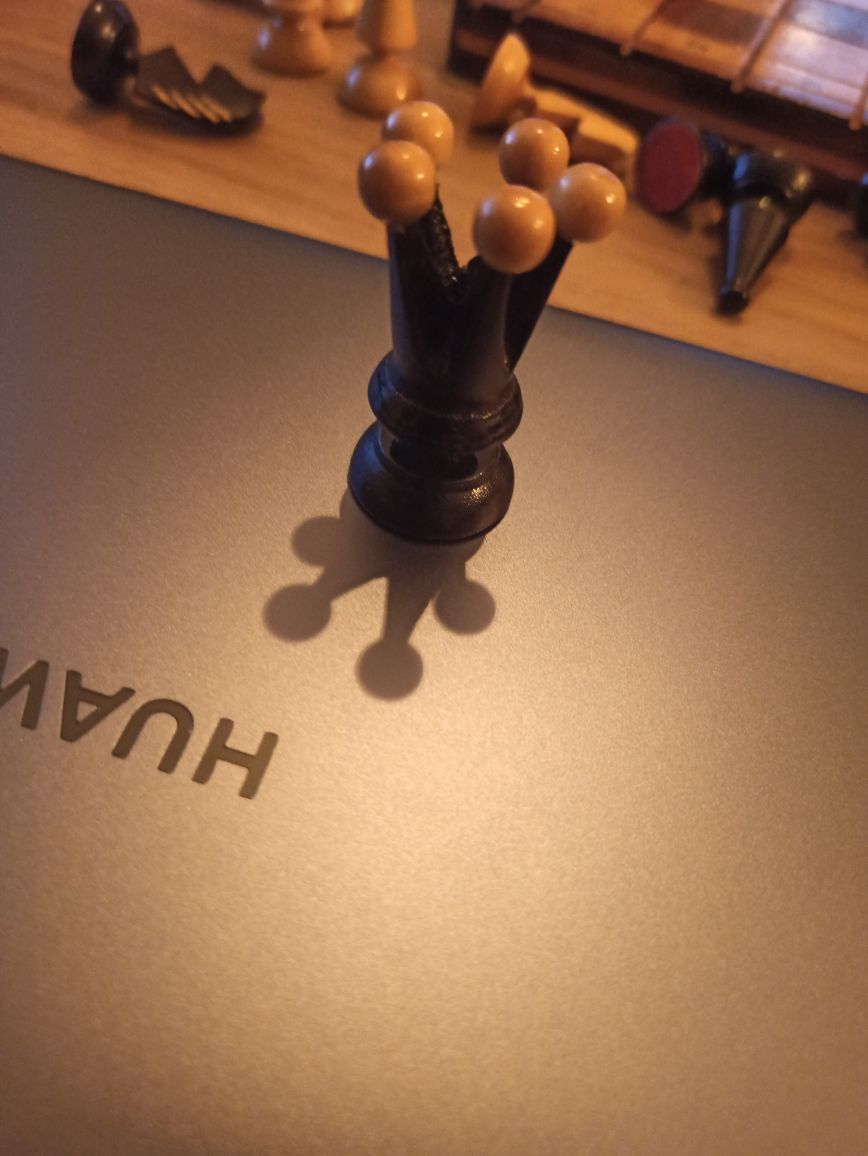bqueen: (345, 100, 626, 546)
